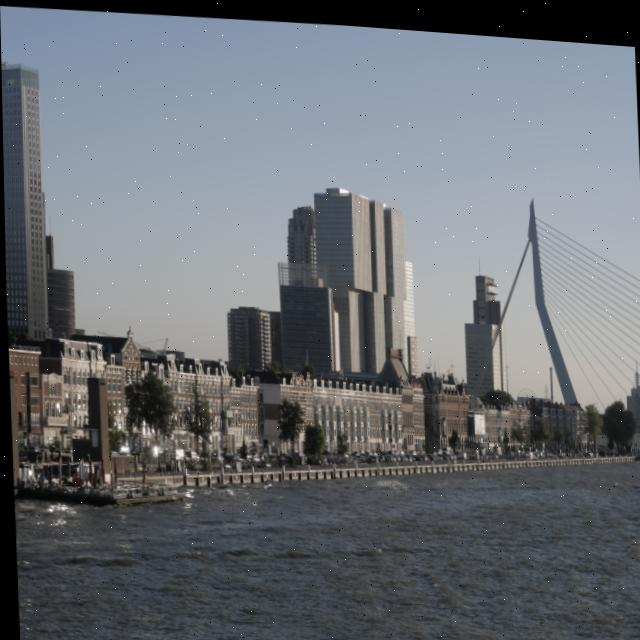building: (7, 308, 640, 500), (274, 181, 415, 376), (1, 56, 77, 336), (463, 272, 508, 391)
